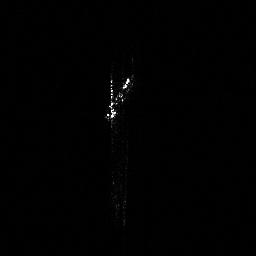ship: (100, 70, 137, 126)
